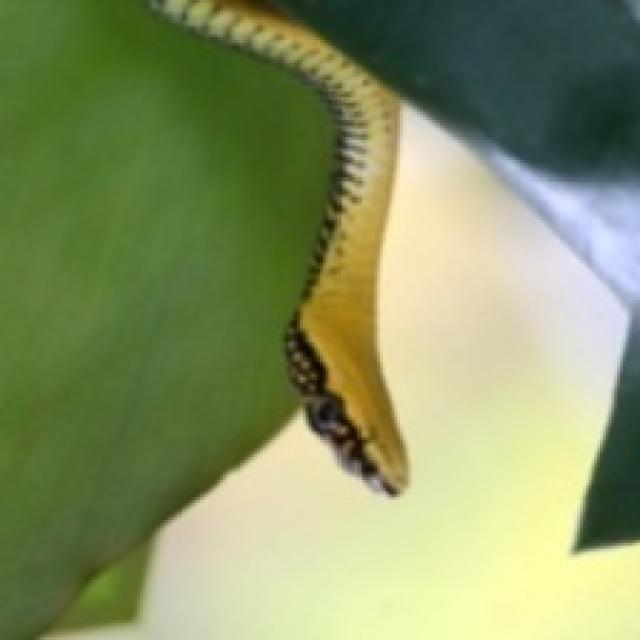paradise tree snake: (149, 0, 406, 491), (151, 0, 406, 491)
